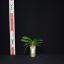leaf: (22, 36, 33, 43), (25, 45, 32, 54), (21, 39, 33, 43), (33, 44, 42, 48), (33, 40, 44, 43), (24, 42, 32, 46), (33, 39, 41, 42), (33, 42, 43, 44)
